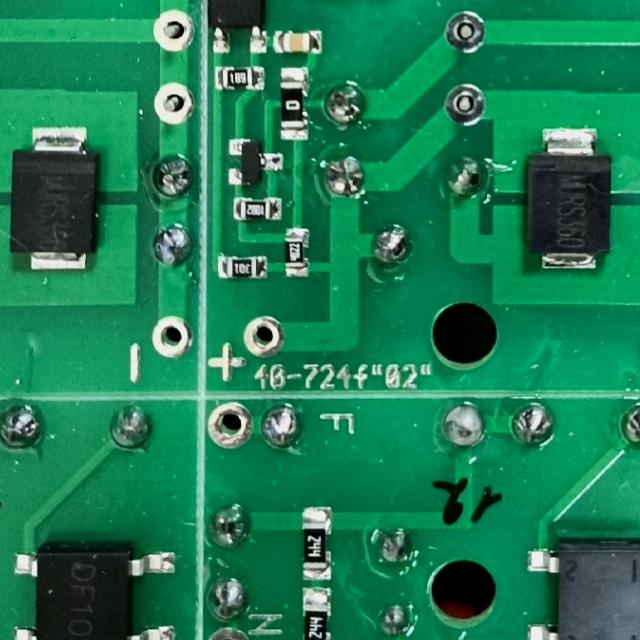chip-capacitor: (271, 28, 323, 54)
chip-resistor: (299, 505, 333, 581), (278, 65, 309, 142), (298, 585, 333, 640), (211, 64, 266, 92), (283, 224, 310, 280), (215, 253, 269, 280), (230, 196, 284, 221)
diode: (7, 123, 101, 271), (523, 125, 612, 271)
ic: (9, 538, 180, 640), (522, 537, 640, 640)
transistor: (226, 135, 285, 187)
